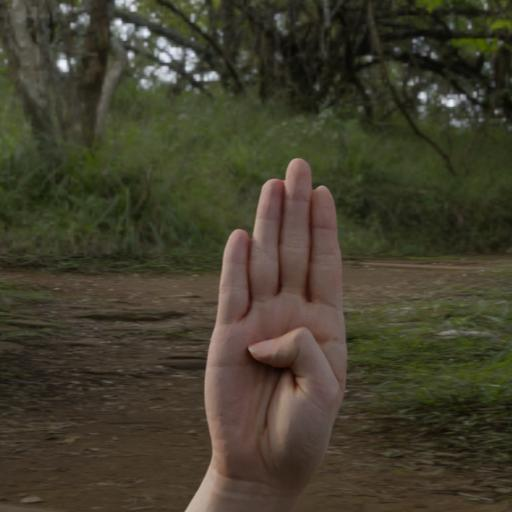B: (174, 123, 398, 496)
